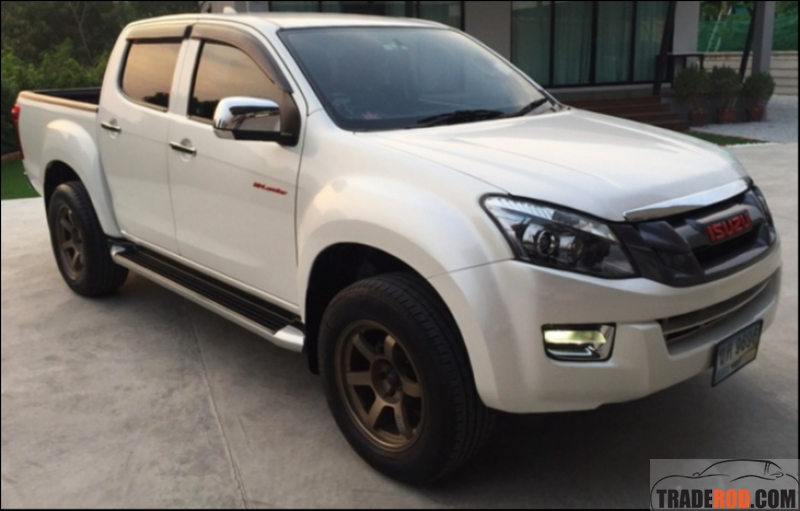pickup: (11, 11, 784, 456)
